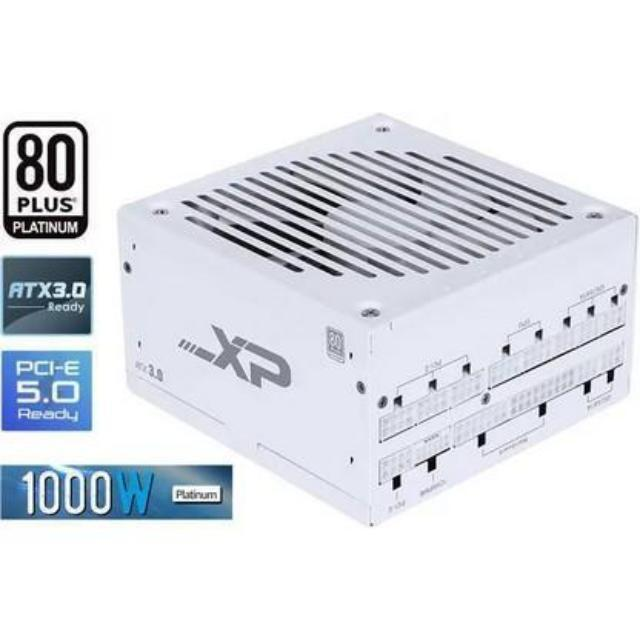PSU: (108, 91, 640, 538)
